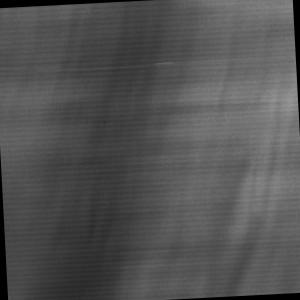Wrinkle: (1, 1, 165, 300), (192, 65, 300, 298), (204, 1, 253, 124)
